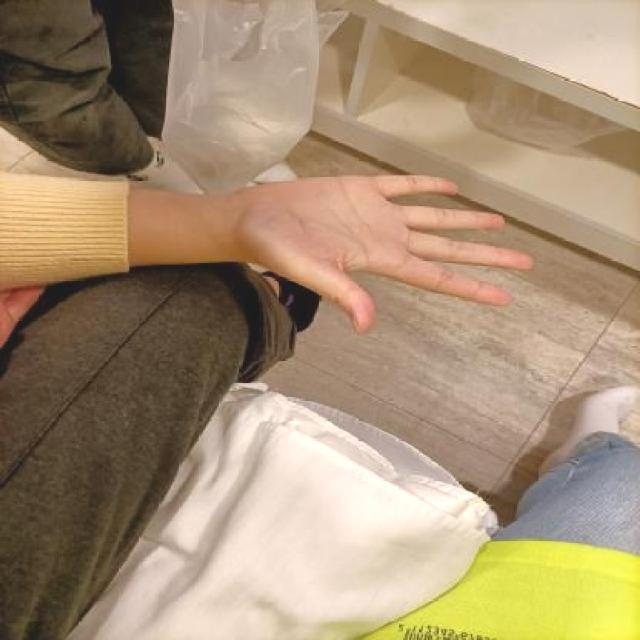no_glove: (201, 158, 541, 337)
